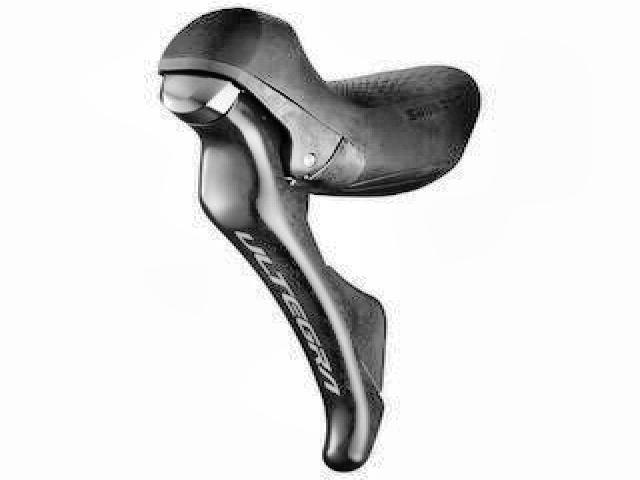sti_shifter: (154, 4, 478, 478)
